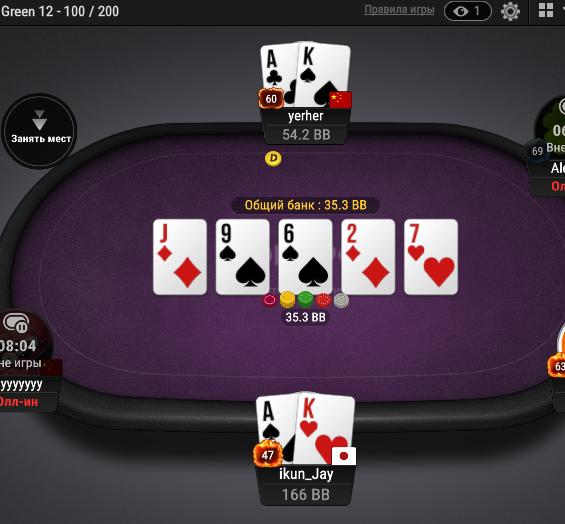2d: (341, 220, 394, 292)
6s: (280, 219, 333, 293)
7h: (405, 219, 459, 292)
9s: (217, 219, 270, 294)
Ac: (259, 43, 300, 110)
As: (254, 394, 299, 464)
Jd: (154, 221, 206, 296)
Kh: (296, 391, 356, 465)
Ks: (298, 37, 351, 109)
